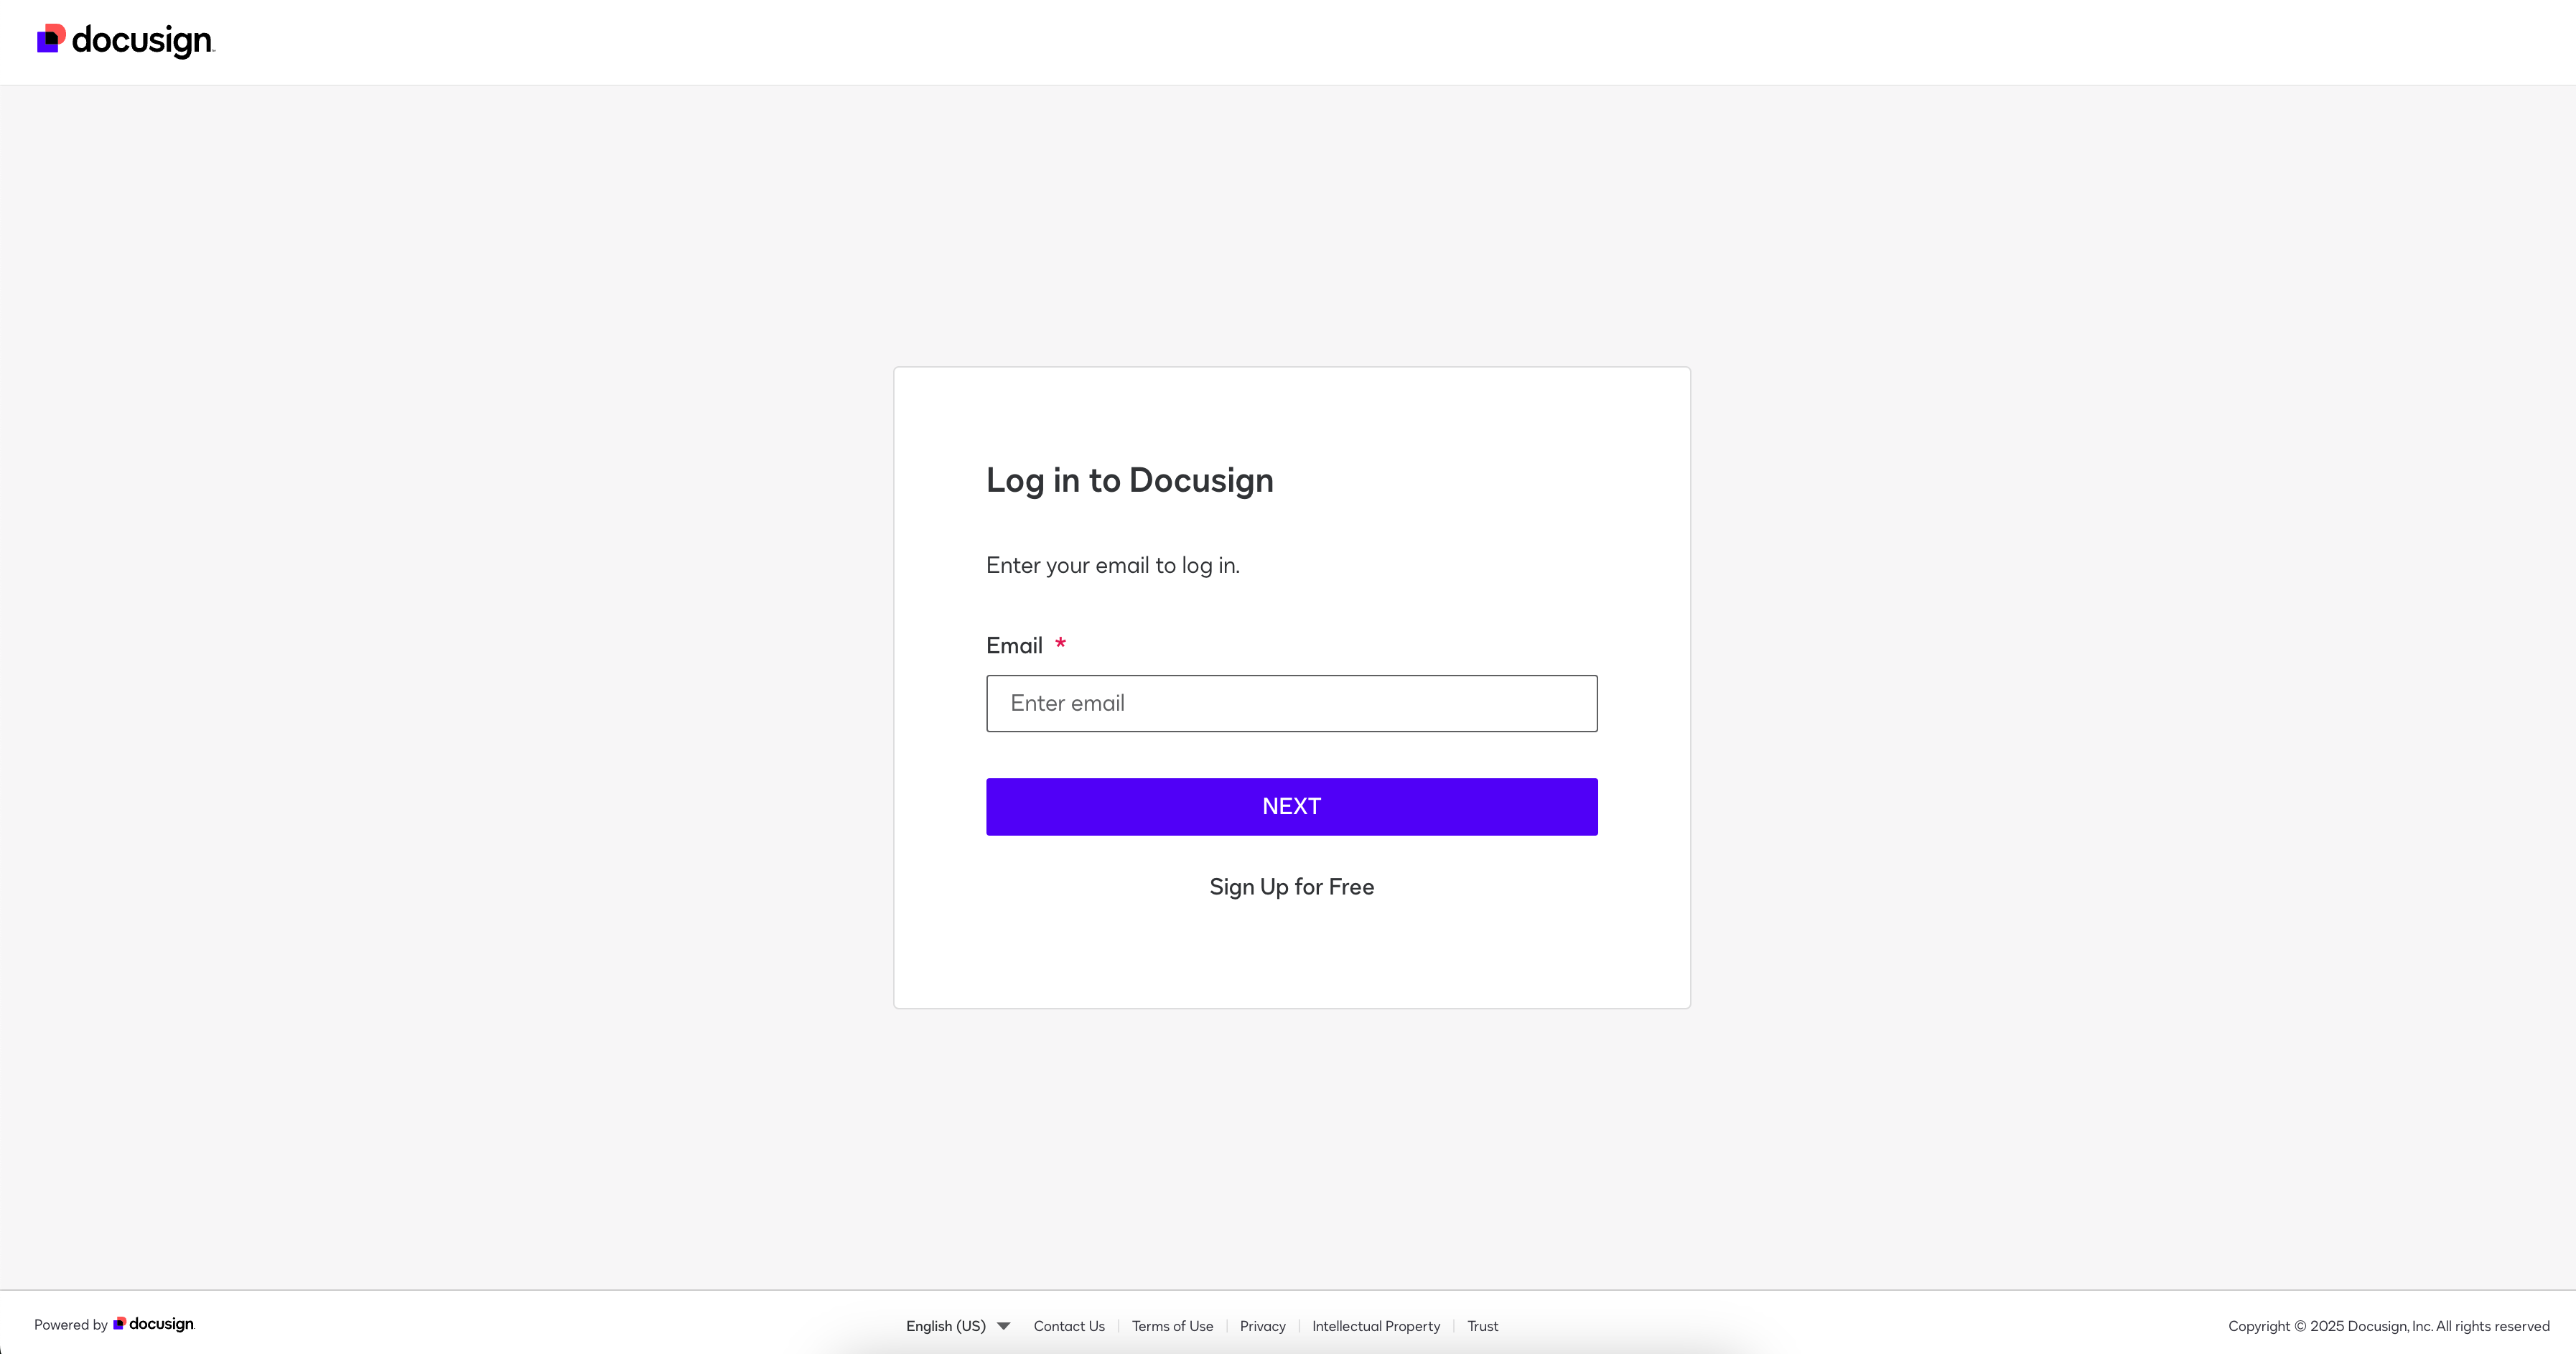button: (985, 674, 1598, 732), (986, 780, 1598, 836)
label: (1007, 688, 1126, 719)
